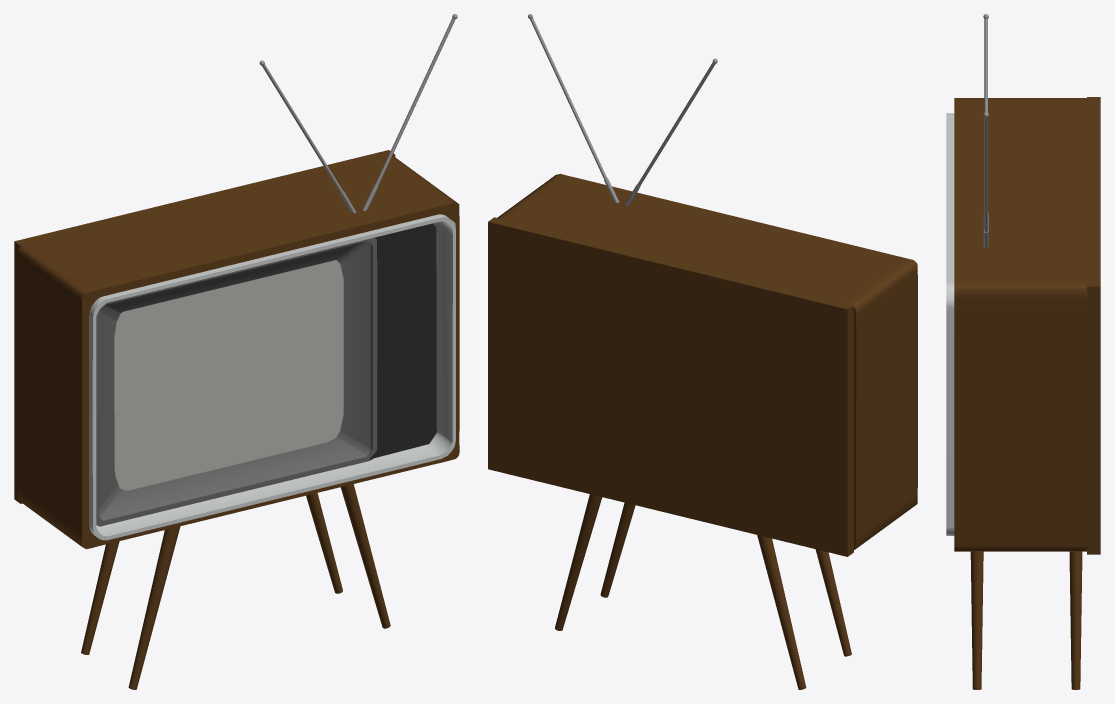
3 views of the same model, side by side, from view 1: azimuth 30°, elevation 25°; view 2: azimuth 150°, elevation 25°; view 3: azimuth 270°, elevation 25° (orthographic). The views are drawn at different scales.
Parts seen in each view (by area): view 1: TV; view 2: TV; view 3: TV.
Part boxes in pixels (x1,y1,x2,y2): TV: (14,14,459,689); TV: (488,14,917,689); TV: (946,14,1100,689).
Size of the model in its own units: 11.98 by 17.36 by 3.94.
